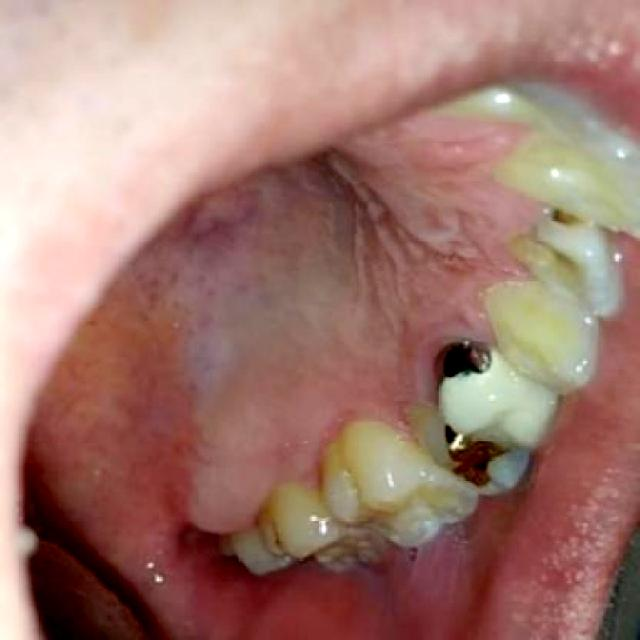Plaque: (267, 523, 286, 557), (549, 211, 580, 228)
